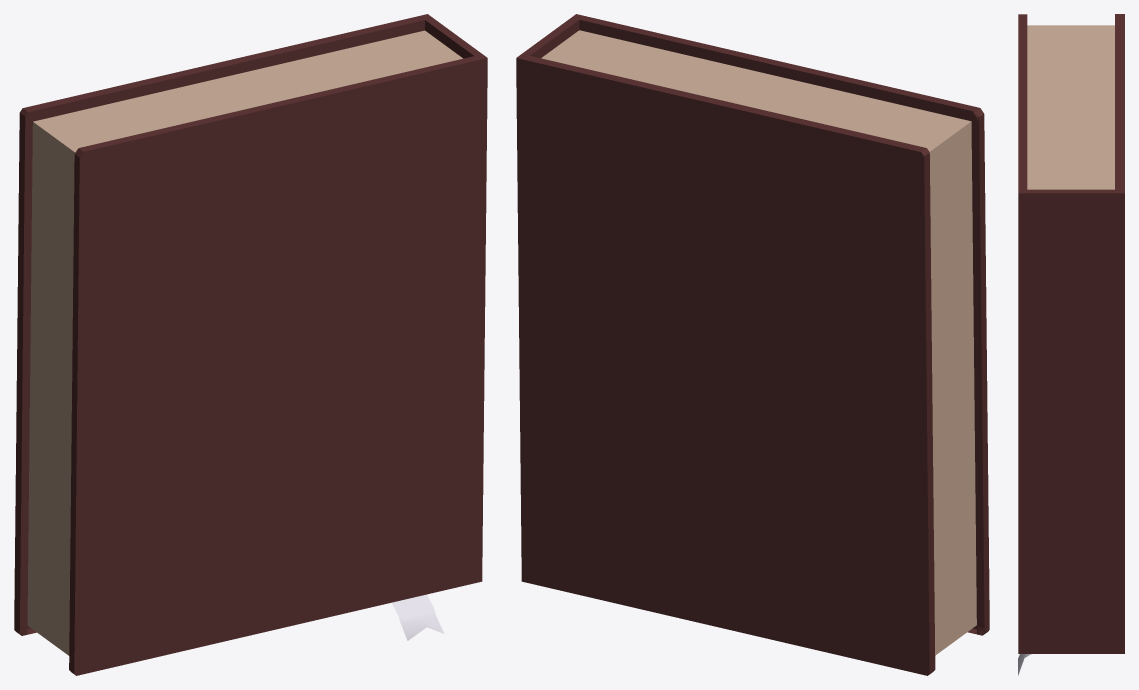
File: book.fbx
3 renders of one model, left to right at view 1: azimuth 30°, elevation 25°; view 2: azimuth 150°, elevation 25°; view 3: azimuth 270°, elevation 25°, orthographic. The views are drawn at different scales.
Visible parts, largest first — view 1: Cube.003; view 2: Cube.003; view 3: Cube.003.
Part boxes in pixels (x1,y1,x2,y2): Cube.003: (14,14,487,675); Cube.003: (516,14,989,675); Cube.003: (1018,14,1124,675).
Bounding box in the file's own units: 18.59 × 24.49 × 4.69.
